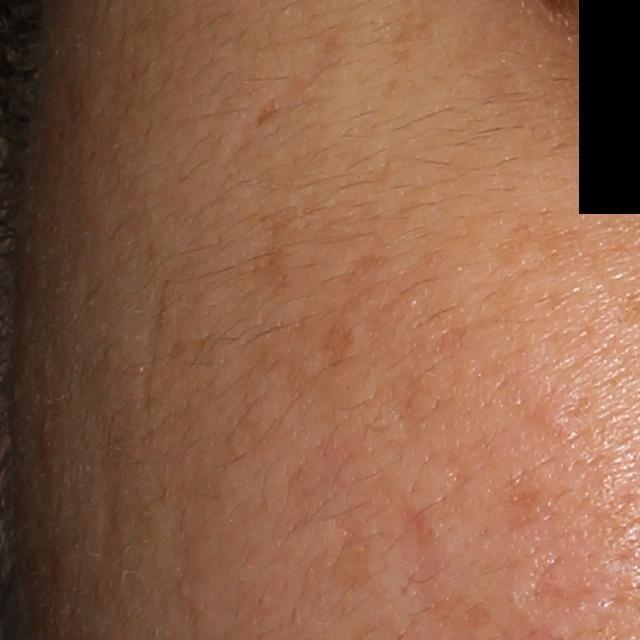melasma: (238, 198, 312, 297), (494, 212, 595, 281), (336, 249, 393, 291), (322, 314, 362, 373), (255, 99, 282, 127)
